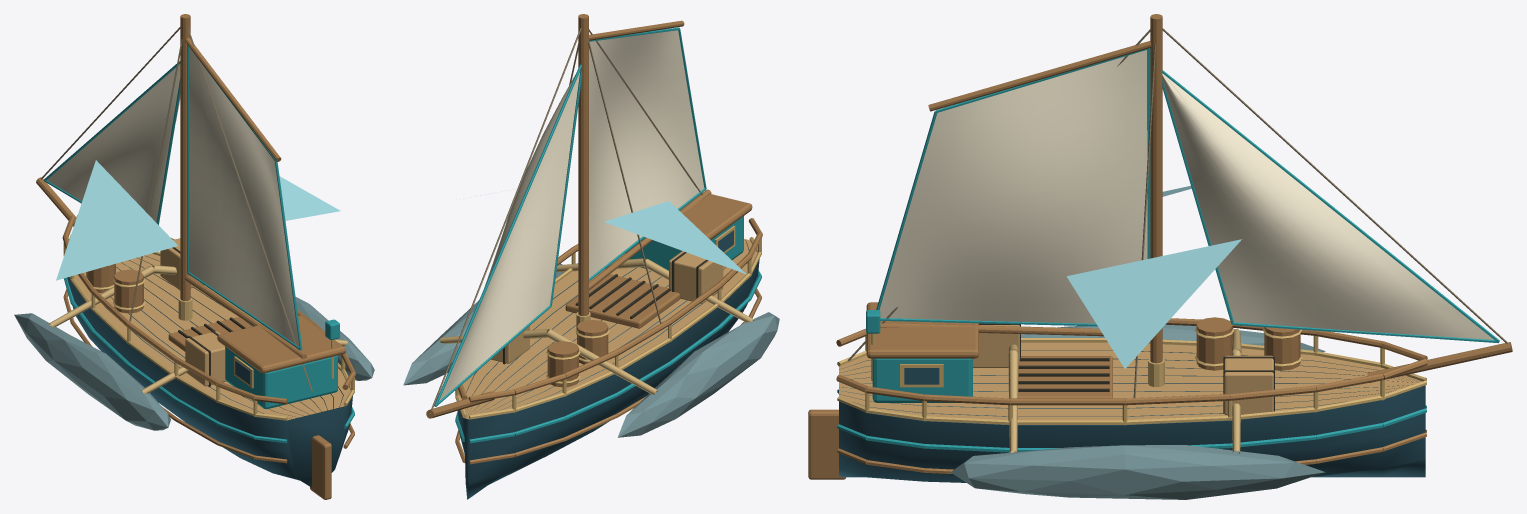
The model's file is ship_sloop.glb.
3 renders of one model, left to right at view 1: azimuth 30°, elevation 25°; view 2: azimuth 150°, elevation 25°; view 3: azimuth 270°, elevation 25°, orthographic. The views are drawn at different scales.
Visible parts, largest first — view 1: Sloop curved hull; view 2: Sloop curved hull; view 3: Sloop curved hull.
Boxes of the visible parts, bbox=[...] form: Sloop curved hull: bbox=[14, 14, 374, 499]; Sloop curved hull: bbox=[403, 14, 779, 499]; Sloop curved hull: bbox=[808, 14, 1512, 499].
Size of the model in its own units: 4.2 by 5.34 by 7.38.
